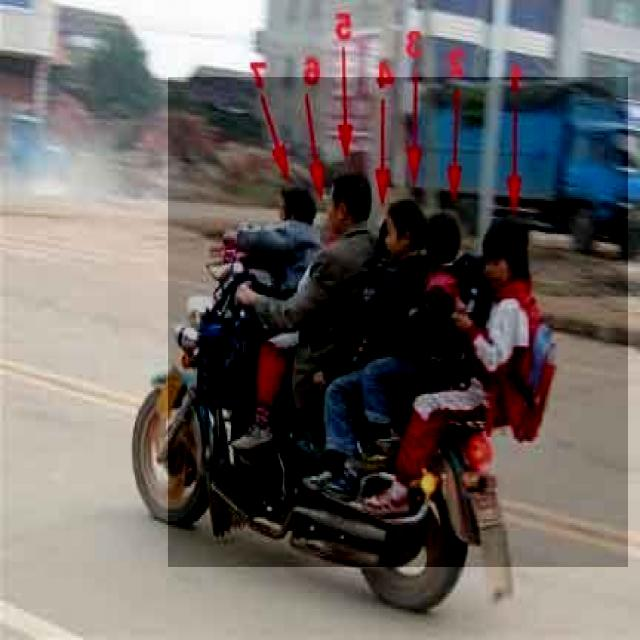Overloading: (168, 77, 628, 567)
